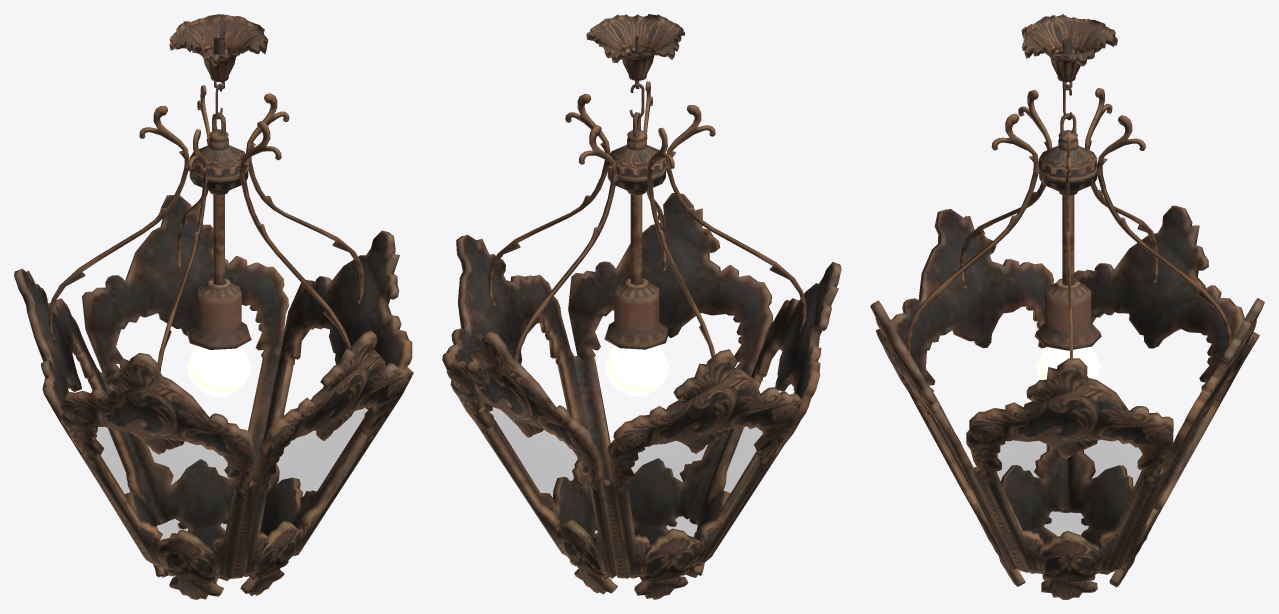
The model's file is lantern_chandelier_01.glb.
3 views of the same model, side by side, from view 1: azimuth 30°, elevation 25°; view 2: azimuth 150°, elevation 25°; view 3: azimuth 270°, elevation 25° (orthographic).
Visible parts, largest first — view 1: lantern_chandelier_01; view 2: lantern_chandelier_01; view 3: lantern_chandelier_01.
Part boxes in pixels (x1,y1,x2,y2): lantern_chandelier_01: (14,14,413,599); lantern_chandelier_01: (442,14,841,599); lantern_chandelier_01: (870,14,1264,599).
Size of the model in its own units: 0.5792 by 0.8776 by 0.5746.
3 materials, 2 textured.
